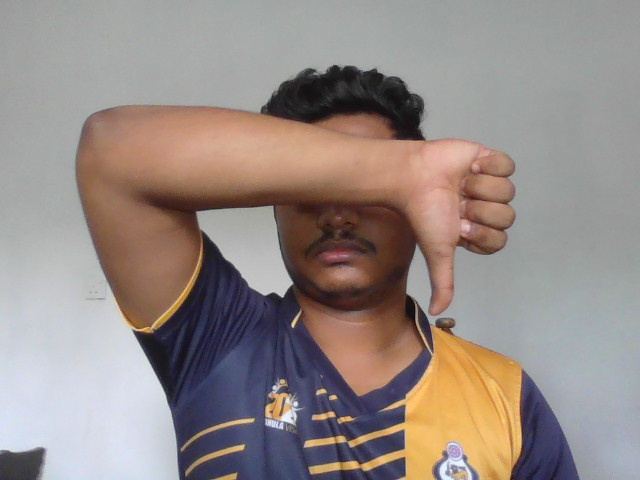Disagree: (403, 137, 516, 318)
